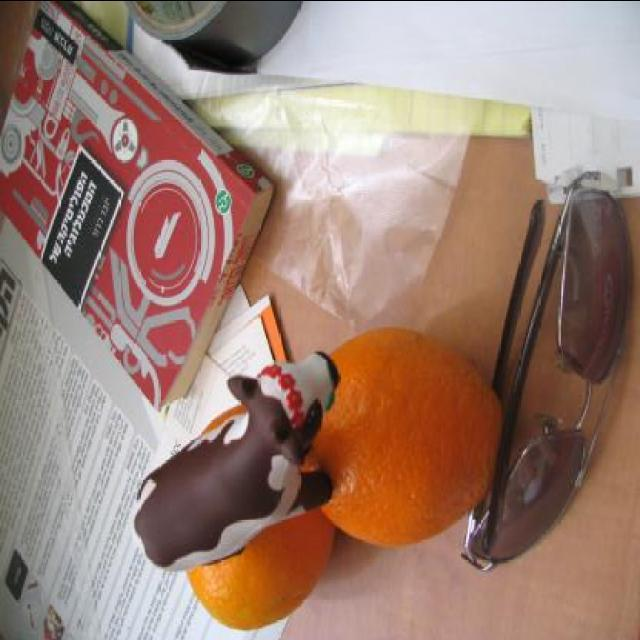Orange: (302, 326, 500, 544), (188, 403, 337, 632)
